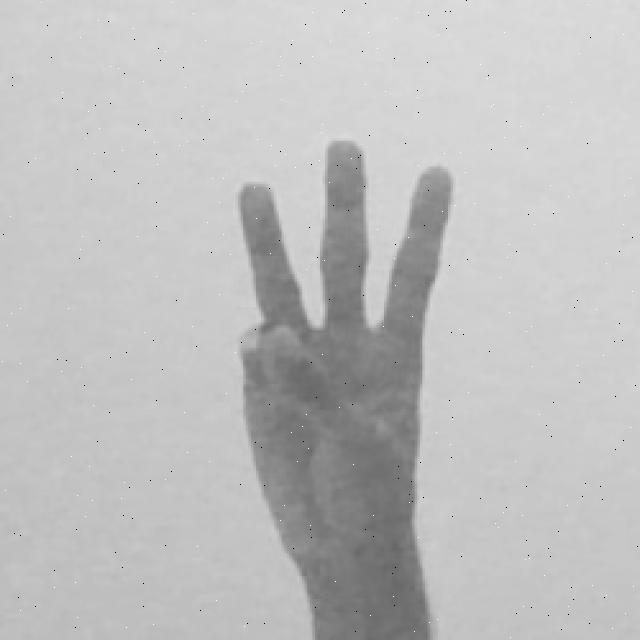W: (223, 133, 458, 640)
